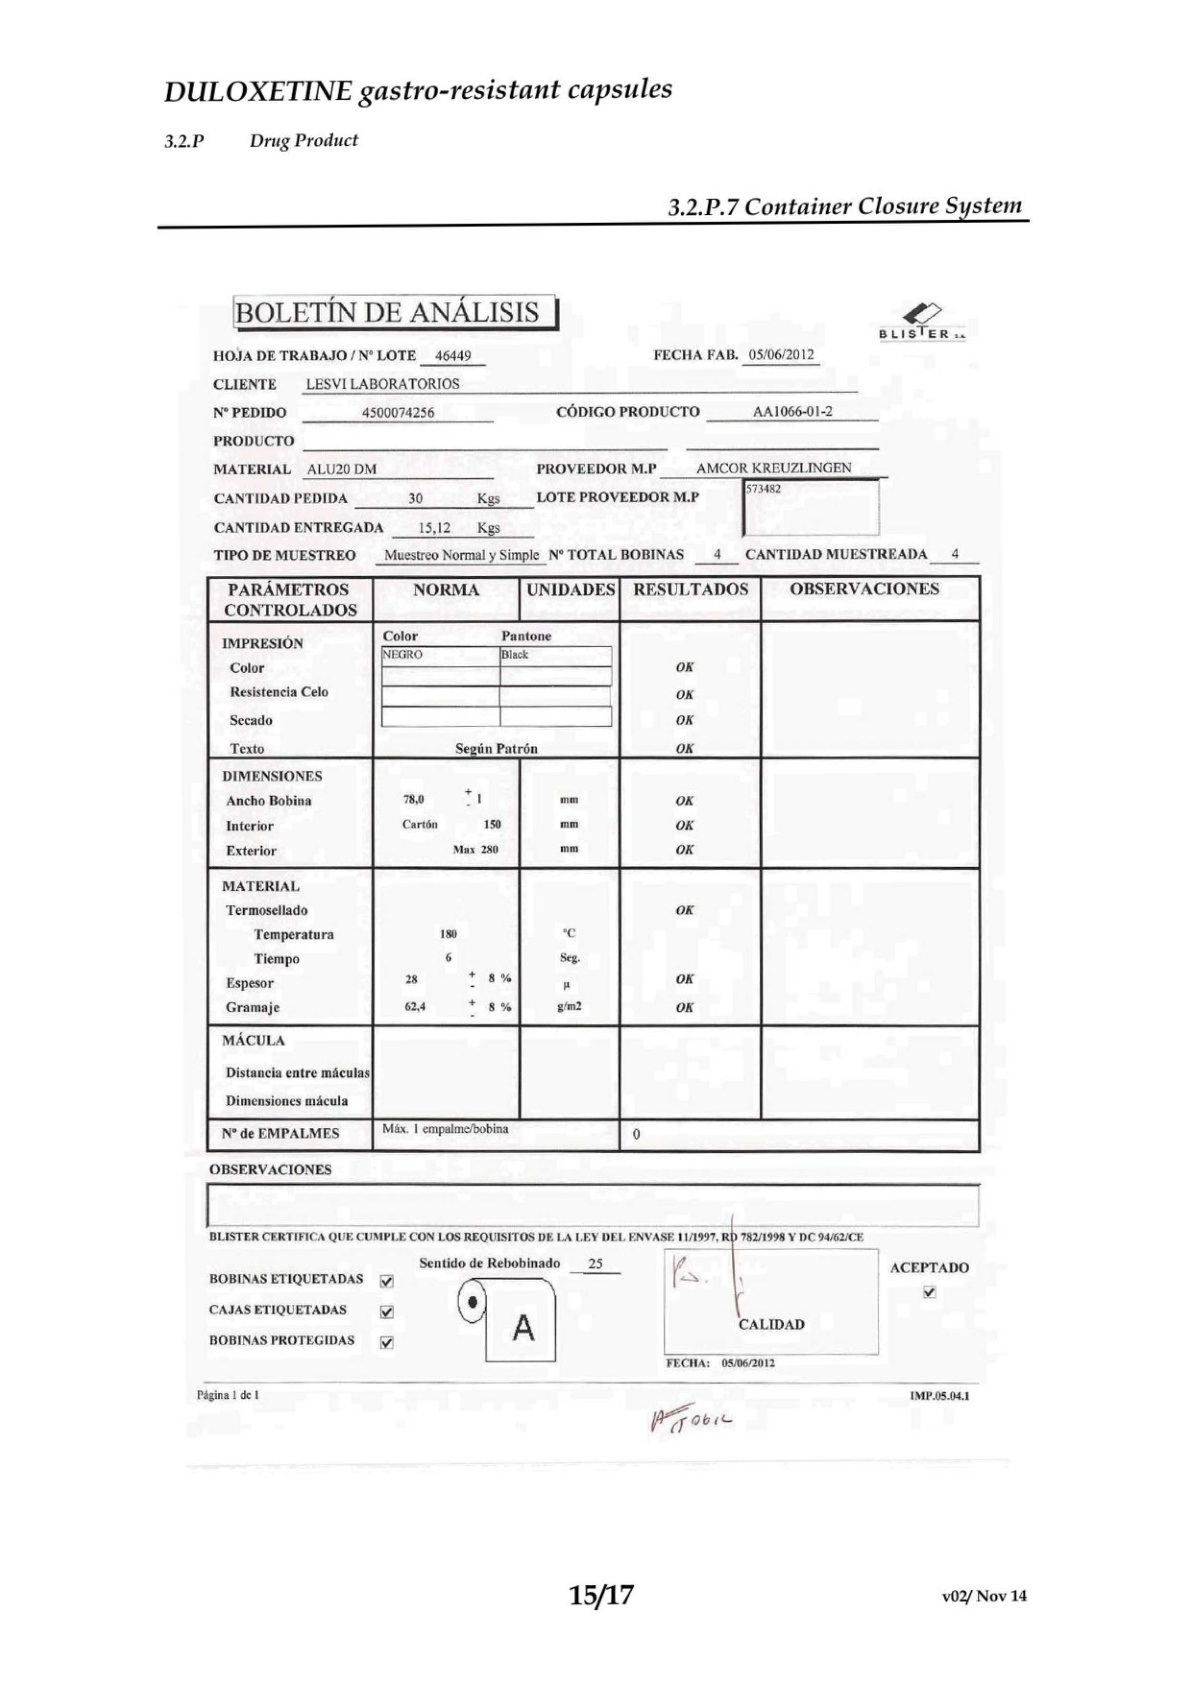merged_cells: (204, 574, 982, 1154)
